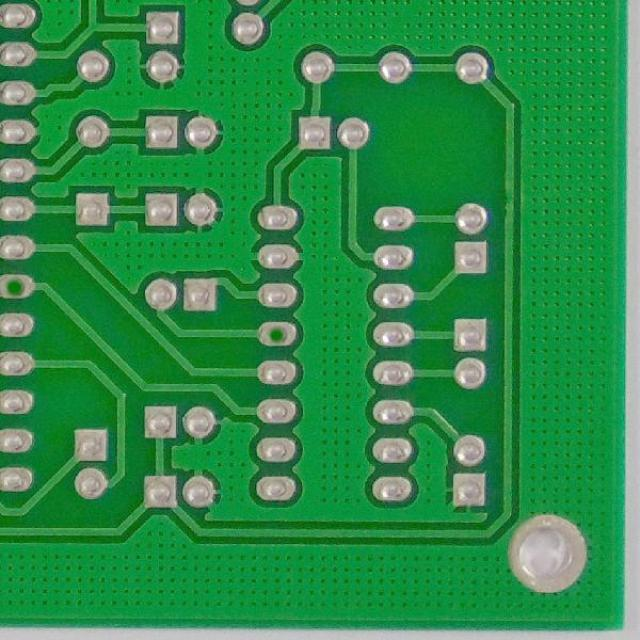Missing_Hole: (253, 318, 300, 350), (0, 271, 37, 301)
